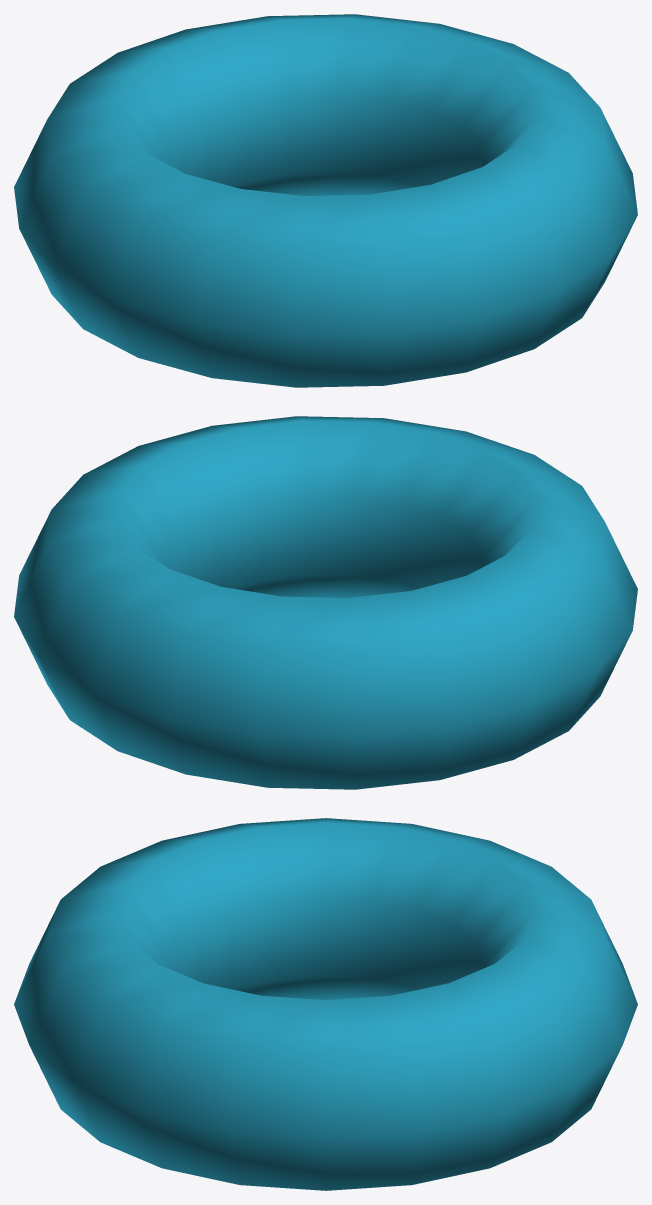
The model's file is ENV_Ring_Float_Large.fbx.
3 views of the same model, one above another, from view 1: azimuth 30°, elevation 25°; view 2: azimuth 150°, elevation 25°; view 3: azimuth 270°, elevation 25° (orthographic).
Visible parts, largest first — view 1: ENV_Ring_Float_Large; view 2: ENV_Ring_Float_Large; view 3: ENV_Ring_Float_Large.
Boxes of the visible parts, left/top/right/bottom form: ENV_Ring_Float_Large: left=14, top=14, right=637, bottom=387; ENV_Ring_Float_Large: left=14, top=416, right=637, bottom=789; ENV_Ring_Float_Large: left=14, top=818, right=637, bottom=1190.
Bounding box in the file's own units: 0.5864 × 0.1925 × 0.5864.
